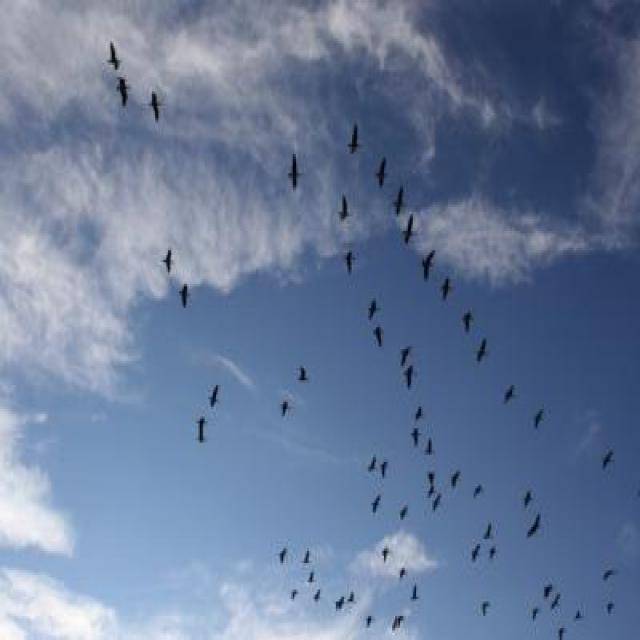birds: (285, 144, 308, 204), (435, 269, 458, 308), (101, 37, 123, 76), (457, 298, 478, 338), (474, 332, 494, 372), (530, 393, 548, 437), (402, 205, 417, 257), (420, 240, 436, 288), (364, 292, 384, 329), (368, 320, 388, 357), (334, 190, 354, 226), (373, 156, 390, 198), (524, 511, 546, 543), (502, 377, 521, 413), (397, 337, 417, 371), (596, 441, 616, 475), (194, 411, 210, 453), (115, 78, 133, 115), (146, 94, 164, 131), (392, 180, 407, 223), (172, 281, 194, 310), (298, 350, 312, 393), (348, 122, 363, 162), (409, 404, 433, 428), (276, 389, 295, 419), (341, 248, 360, 277), (160, 242, 176, 276), (366, 490, 383, 521), (423, 428, 437, 465), (400, 366, 416, 398), (208, 381, 224, 413), (599, 445, 616, 475), (448, 462, 464, 492), (522, 477, 535, 513), (473, 471, 486, 506), (389, 610, 406, 636), (468, 541, 482, 567), (425, 468, 436, 500), (411, 575, 422, 607), (365, 452, 380, 475), (366, 451, 379, 477), (481, 594, 494, 620), (603, 597, 619, 618), (550, 592, 564, 615), (482, 521, 496, 543), (275, 543, 287, 568), (599, 566, 616, 583), (484, 543, 500, 561), (345, 584, 358, 606), (398, 500, 409, 524), (380, 541, 390, 567), (541, 580, 555, 598), (528, 604, 540, 625), (300, 547, 311, 569), (433, 493, 444, 515), (310, 586, 322, 606), (334, 592, 345, 613), (364, 610, 374, 632), (397, 564, 407, 586), (286, 584, 298, 602), (574, 602, 584, 622), (306, 569, 316, 587)
